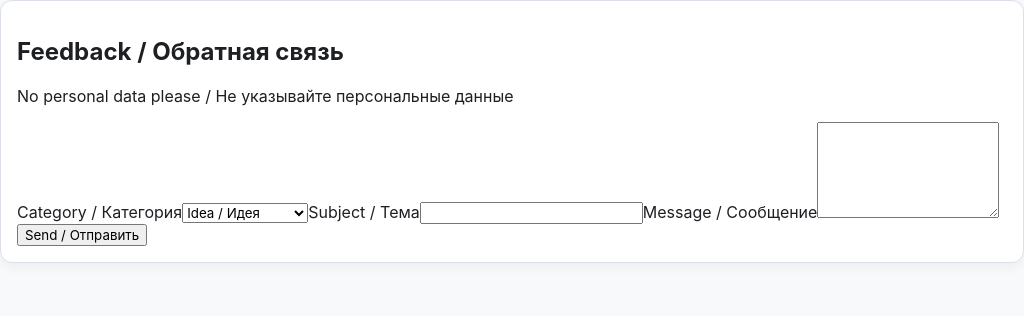
Test: Feedback page › shows rate-limit error
Type "Hi" into the field labelled "Subject / Тема". click: (531, 213)
box: [420,202,643,224]
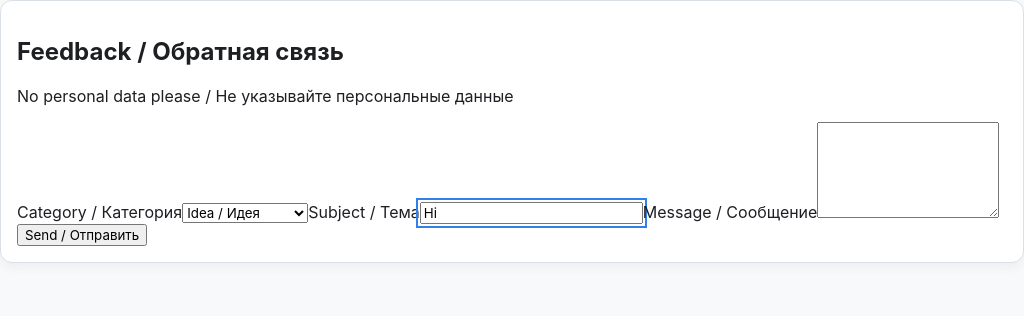
Type "Body" into the text box labelled "Message / Сообщение". click: (908, 170)
box: [817,122,999,218]
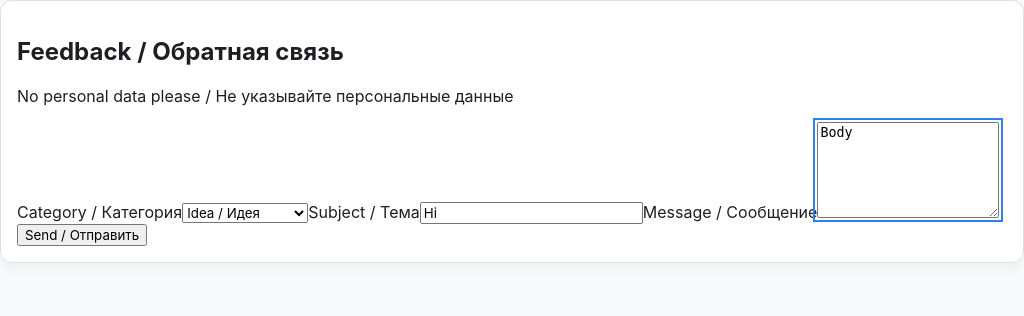
Click the button "Send / Отправить". click: (82, 235)
box: [17,224,147,246]
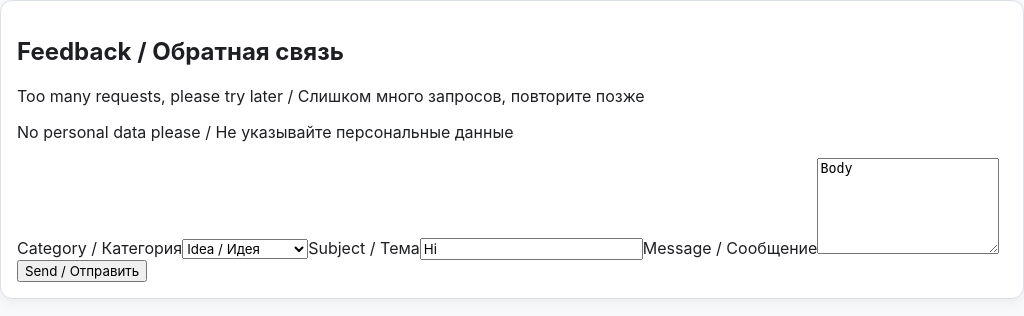
Now the message shows "Too many requests", box [17,86,645,106]
